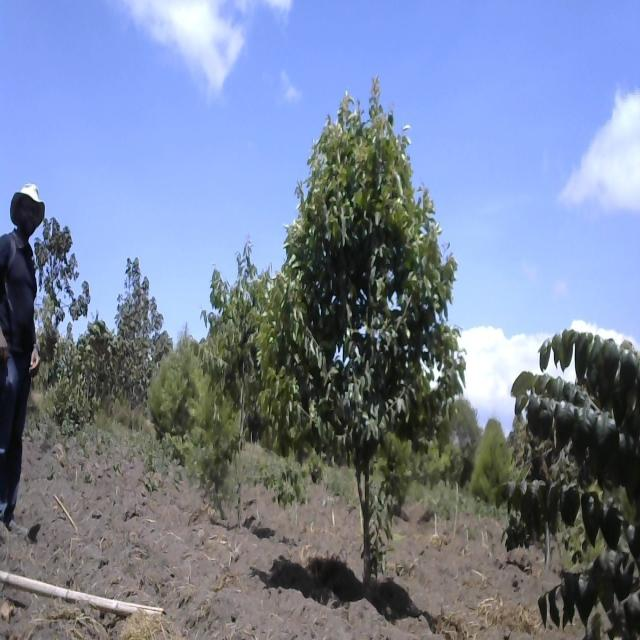Lemon Myrtle: (258, 73, 468, 574)
Podocarpus falcatus: (182, 345, 244, 513), (473, 414, 508, 508)
Polyscias fulva: (501, 310, 640, 638)
cedrus: (147, 338, 198, 438)
other: (199, 238, 274, 399), (33, 212, 95, 358), (111, 254, 166, 401)
